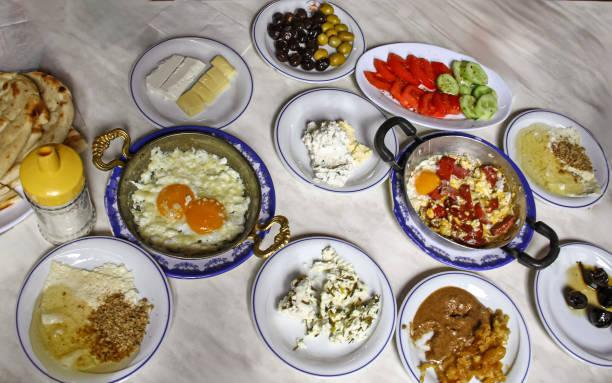Braised Crucian Carp: (103, 123, 276, 277), (14, 235, 170, 383), (249, 235, 394, 378), (389, 133, 536, 270), (394, 269, 533, 381)
